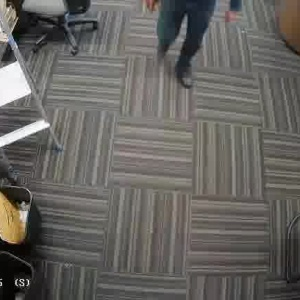person: (149, 0, 215, 79)
